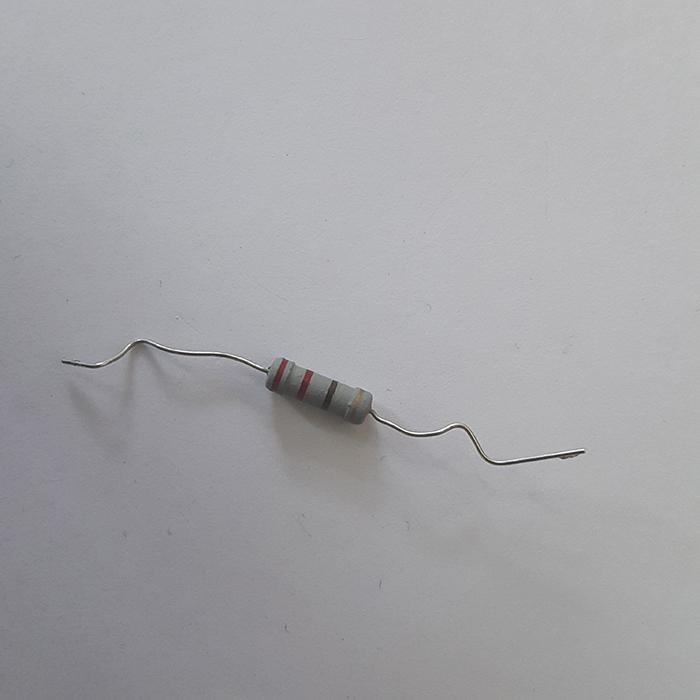resistor: (264, 355, 374, 424)
